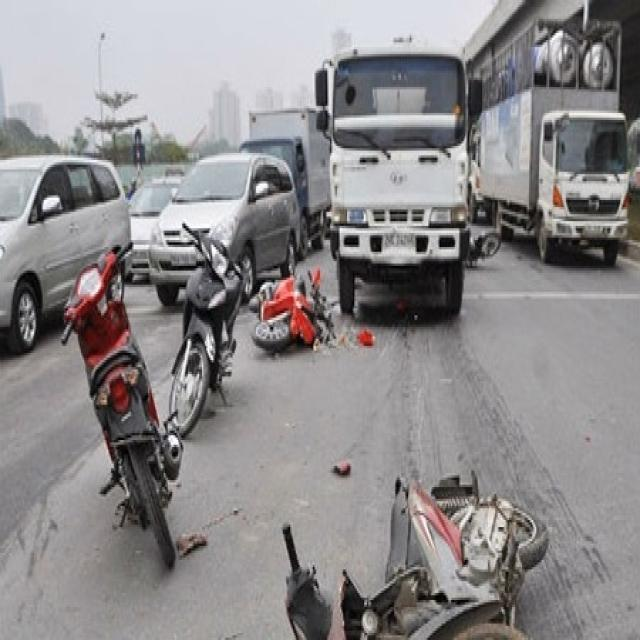accident: (267, 436, 569, 640), (248, 253, 348, 362), (465, 213, 504, 275)
